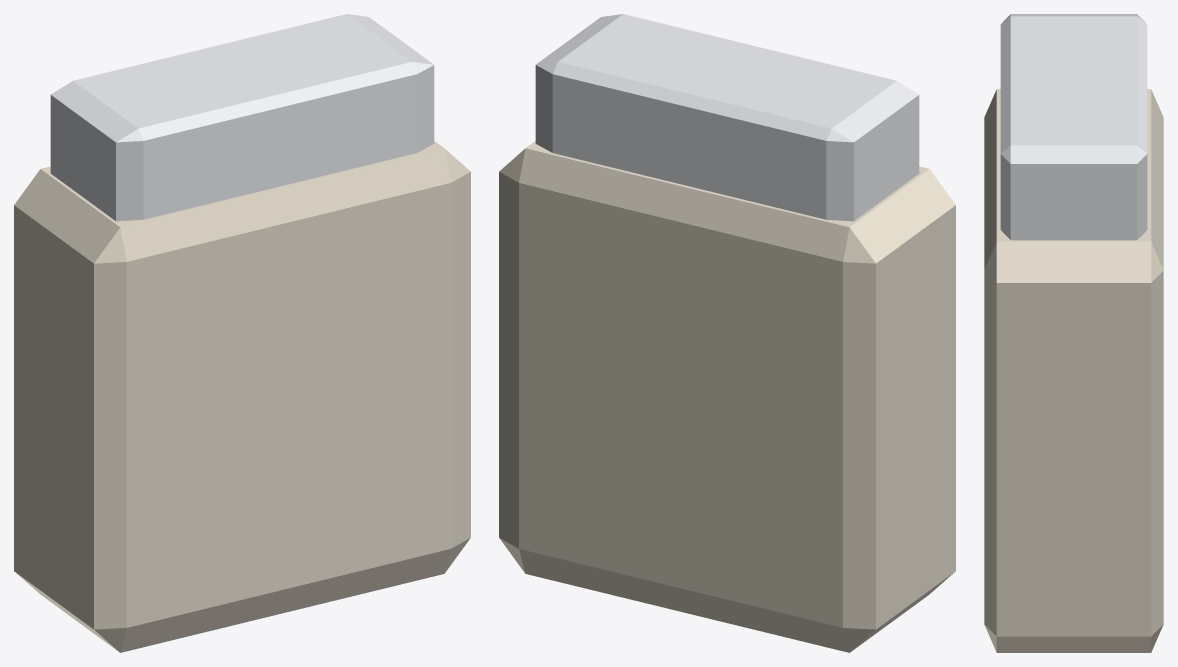
Rendered from b17_messenger_satchel.glb.
3 views of the same model, side by side, from view 1: azimuth 30°, elevation 25°; view 2: azimuth 150°, elevation 25°; view 3: azimuth 270°, elevation 25° (orthographic). The views are drawn at different scales.
Visible parts, largest first — view 1: b17_messenger_satchel; view 2: b17_messenger_satchel; view 3: b17_messenger_satchel.
Boxes of the visible parts, box(x1,y1,x2,y2) form: b17_messenger_satchel: box(14, 14, 470, 652); b17_messenger_satchel: box(499, 14, 955, 652); b17_messenger_satchel: box(984, 14, 1163, 652).
Bounding box in the file's own units: 0.41 × 0.533 × 0.175.
